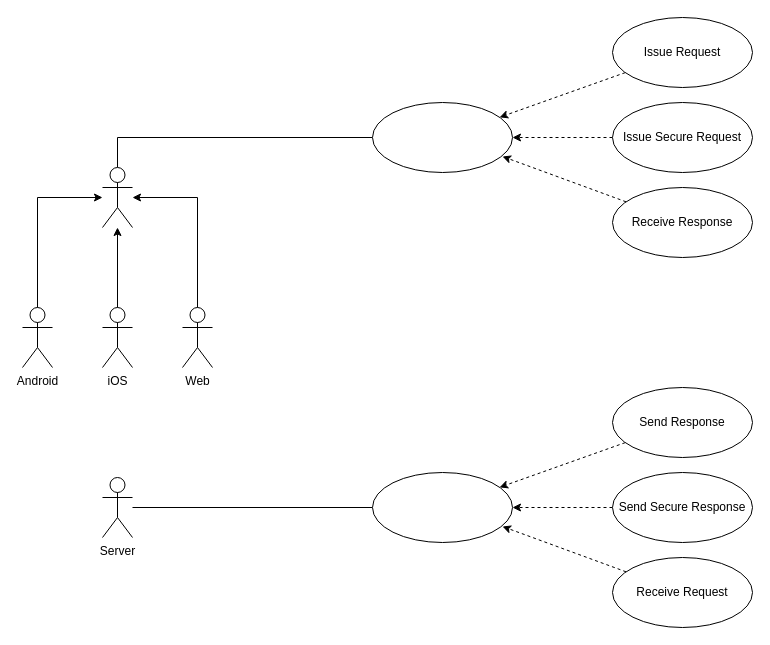
Some shapes in this 770 by 645 pixel diagram are drawn without their labels. The shapes that lost their labels are listed below. From the top down, each one's box as (x1, y1, x2, y2) in pixels, then its label:
(372, 102, 512, 172): Upstream Management
(102, 166, 132, 228): Access Channel
(372, 472, 512, 542): Downstream Management
